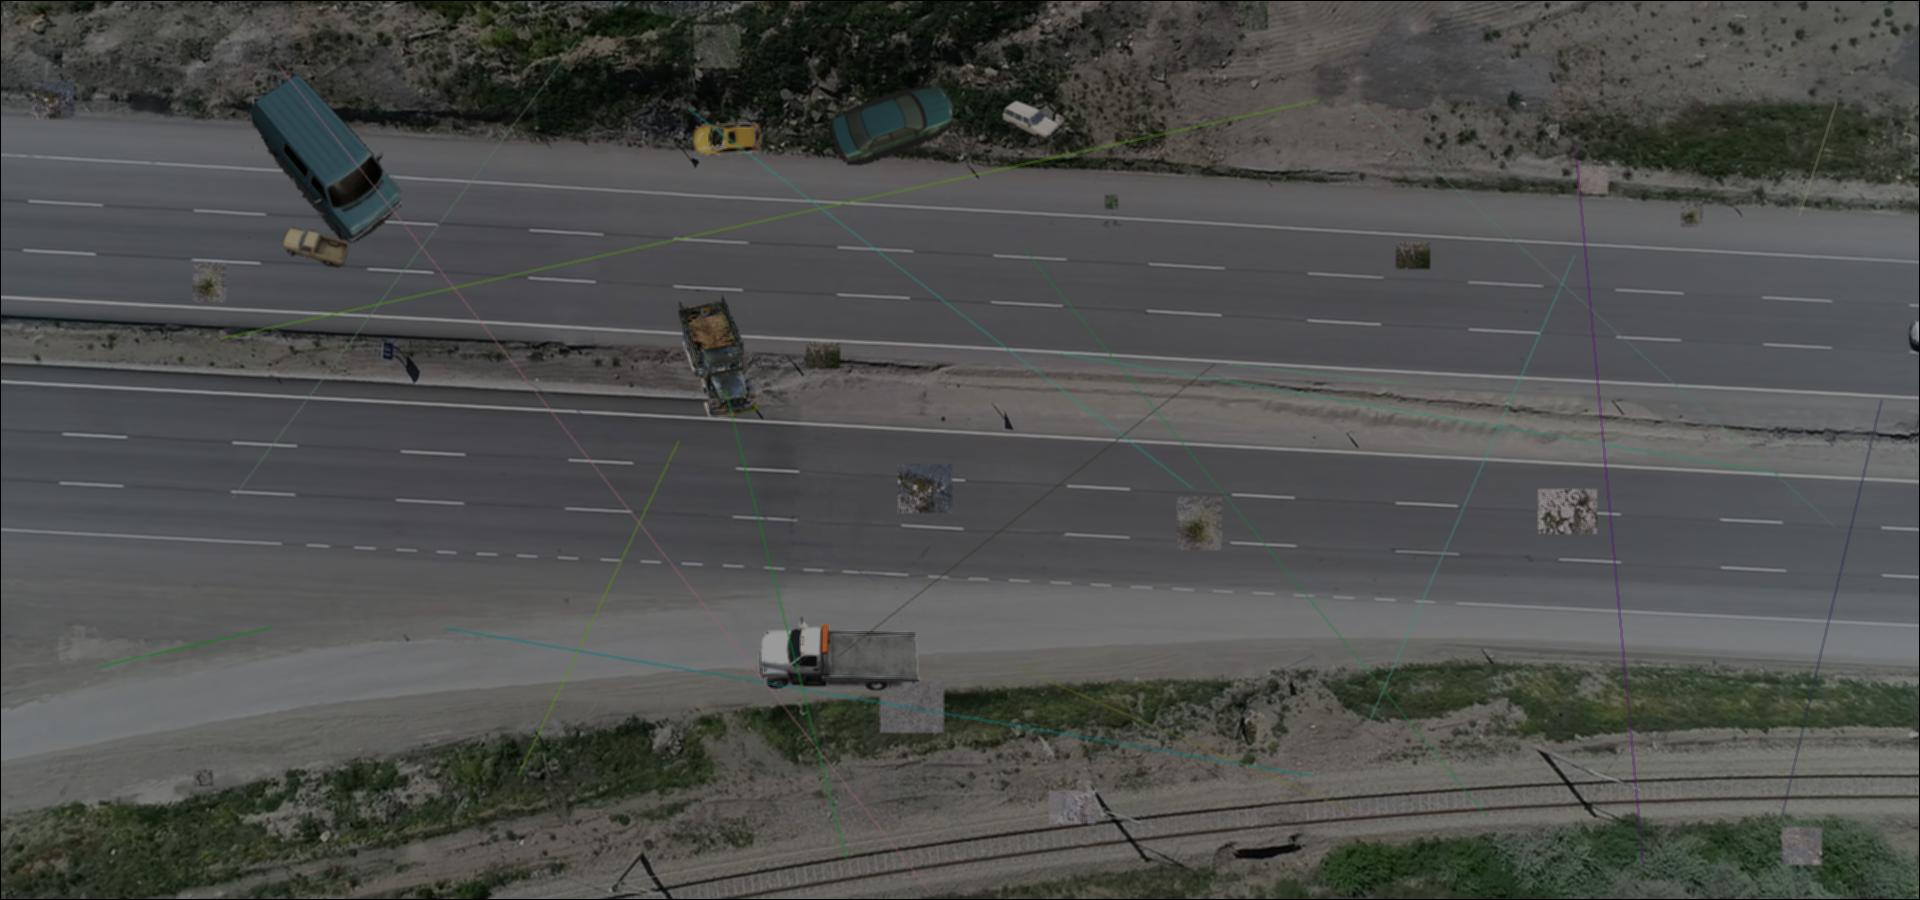arac: (242, 67, 400, 242), (759, 617, 921, 691), (677, 294, 760, 418), (833, 83, 953, 165), (691, 120, 767, 159), (282, 227, 349, 269), (1000, 100, 1063, 143)
